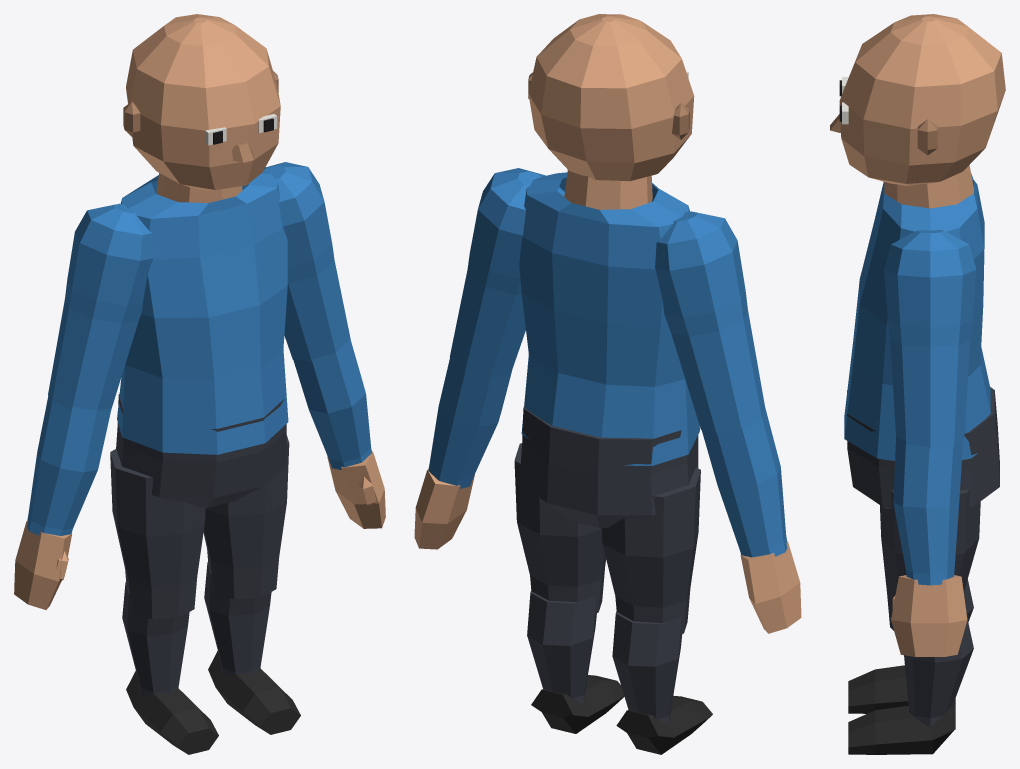
The model's file is bebe_x_moyen.glb.
3 renders of one model, left to right at view 1: azimuth 30°, elevation 25°; view 2: azimuth 150°, elevation 25°; view 3: azimuth 270°, elevation 25°, orthographic. The views are drawn at different scales.
Parts seen in each view (by area): view 1: torse, tete, bras_d, avant_bras_d, jambe_d, bras_g, avant_bras_g, jambe_g, bassin, tibia_d, tibia_g; view 2: torse, tete, bras_d, bassin, avant_bras_d, bras_g, jambe_d, avant_bras_g, tibia_d, tibia_g, jambe_g; view 3: tete, bras_g, torse, avant_bras_g, tibia_g, bassin, jambe_g, tibia_d.
Boxes of the visible parts, x1=… form: torse: x1=117, y1=171, x2=288, y2=454; tete: x1=123, y1=14, x2=280, y2=202; bras_d: x1=48, y1=203, x2=153, y2=410; avant_bras_d: x1=14, y1=396, x2=111, y2=609; jambe_d: x1=110, y1=449, x2=205, y2=619; bras_g: x1=242, y1=162, x2=350, y2=362; avant_bras_g: x1=293, y1=339, x2=385, y2=528; jambe_g: x1=203, y1=435, x2=289, y2=599; bassin: x1=116, y1=394, x2=286, y2=507; tibia_d: x1=122, y1=582, x2=218, y2=754; tibia_g: x1=204, y1=562, x2=300, y2=734; torse: x1=519, y1=172, x2=699, y2=465; tete: x1=528, y1=14, x2=694, y2=209; bras_d: x1=655, y1=211, x2=765, y2=432; bassin: x1=519, y1=406, x2=698, y2=527; avant_bras_d: x1=701, y1=408, x2=801, y2=633; bras_g: x1=450, y1=168, x2=564, y2=378; jambe_d: x1=601, y1=467, x2=700, y2=634; avant_bras_g: x1=414, y1=358, x2=511, y2=549; tibia_d: x1=612, y1=611, x2=712, y2=754; tibia_g: x1=527, y1=590, x2=624, y2=733; jambe_g: x1=514, y1=443, x2=606, y2=613; tete: x1=830, y1=14, x2=1005, y2=208; bras_g: x1=884, y1=230, x2=976, y2=448; torse: x1=844, y1=178, x2=990, y2=460; avant_bras_g: x1=891, y1=437, x2=967, y2=656; tibia_g: x1=848, y1=617, x2=973, y2=754; bassin: x1=847, y1=387, x2=999, y2=508; jambe_g: x1=880, y1=489, x2=980, y2=630; tibia_d: x1=848, y1=579, x2=973, y2=713.
Size of the model in its own units: 0.4313 by 0.7987 by 0.1793.
1 material, 1 textured.
